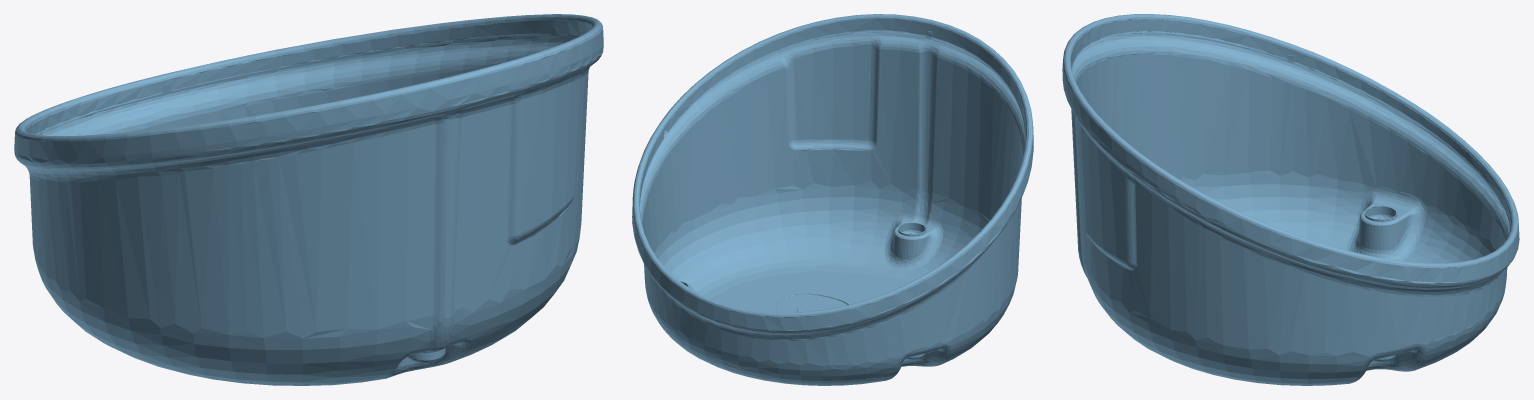
Rendered from forearm_0.obj.
The picture shows the model from 3 angles, left to right: view 1: azimuth 30°, elevation 25°; view 2: azimuth 150°, elevation 25°; view 3: azimuth 270°, elevation 25°; orthographic projection. The views are drawn at different scales.
Bounding box in the file's own units: 0.0787 × 0.0492 × 0.0787.
